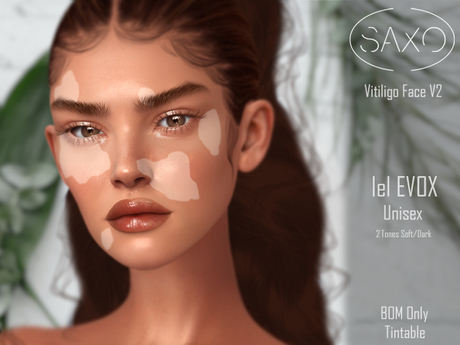Vitiligo: (51, 60, 232, 253)
